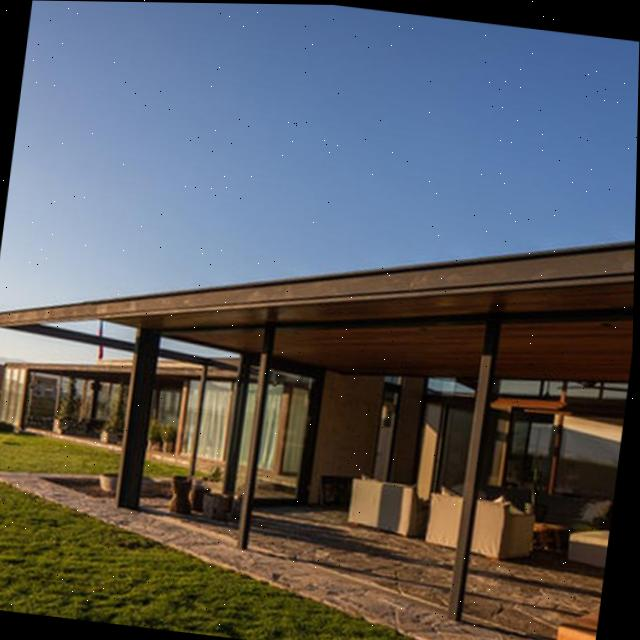building: (0, 171, 636, 561)
